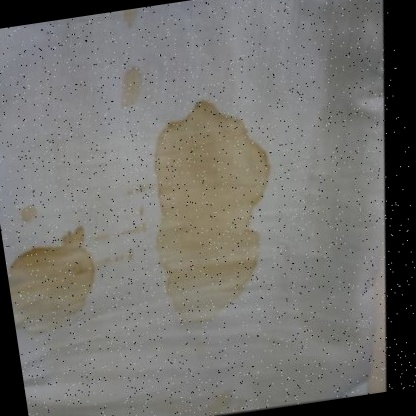coffee: (159, 119, 261, 287), (8, 247, 97, 328)
